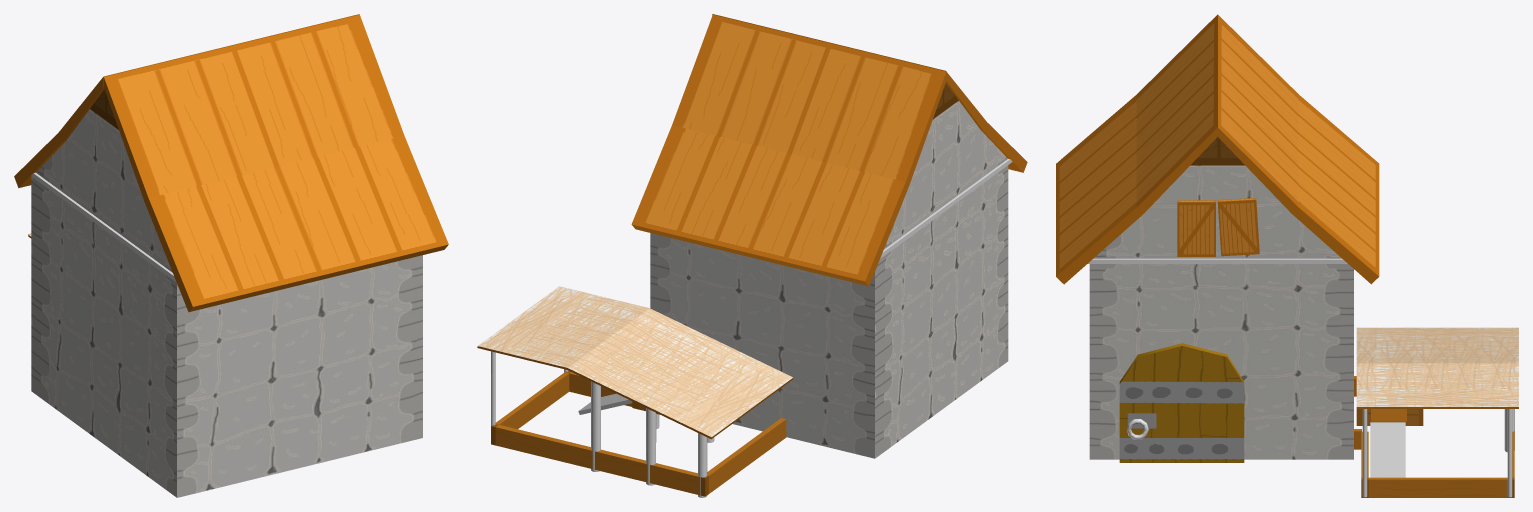
Rendered from Huis.FBX.
The picture shows the model from 3 angles, left to right: view 1: azimuth 30°, elevation 25°; view 2: azimuth 150°, elevation 25°; view 3: azimuth 270°, elevation 25°; orthographic projection. The views are drawn at different scales.
Parts seen in each view (by area): view 1: Huis001, Box131, Box138, Box132; view 2: Huis001, Box138, Box134, Cylinder205, Box131, Box132, Cylinder209, Cylinder210; view 3: Huis001, Box138, Box131, Box134, Box136, Cylinder205, Box137, Box133, Box135, Box132, Cylinder214, Cylinder215.
Part boxes in pixels (box(x1,y1,x2,y2)): Huis001: box(31, 89, 422, 497); Box131: box(103, 14, 448, 312); Box138: box(14, 14, 358, 188); Box132: box(31, 172, 176, 282); Huis001: box(650, 83, 1008, 458); Box138: box(631, 14, 946, 286); Box134: box(477, 286, 793, 439); Cylinder205: box(491, 371, 786, 496); Box131: box(712, 14, 1027, 172); Box132: box(880, 159, 1012, 258); Cylinder209: box(591, 381, 600, 471); Cylinder210: box(646, 408, 656, 485); Huis001: box(1089, 136, 1353, 459); Box138: box(1217, 15, 1379, 284); Box131: box(1056, 14, 1217, 284); Box134: box(1356, 327, 1518, 425); Box136: box(1119, 343, 1244, 462); Cylinder205: box(1354, 376, 1514, 497); Box137: box(1217, 198, 1259, 256); Box133: box(1177, 200, 1215, 256); Box135: box(1370, 422, 1405, 477); Box132: box(1088, 258, 1347, 263); Cylinder214: box(1362, 409, 1367, 497); Cylinder215: box(1507, 409, 1512, 497).
Bounding box in the file's own units: 0.0523 × 0.0537 × 0.0666.
